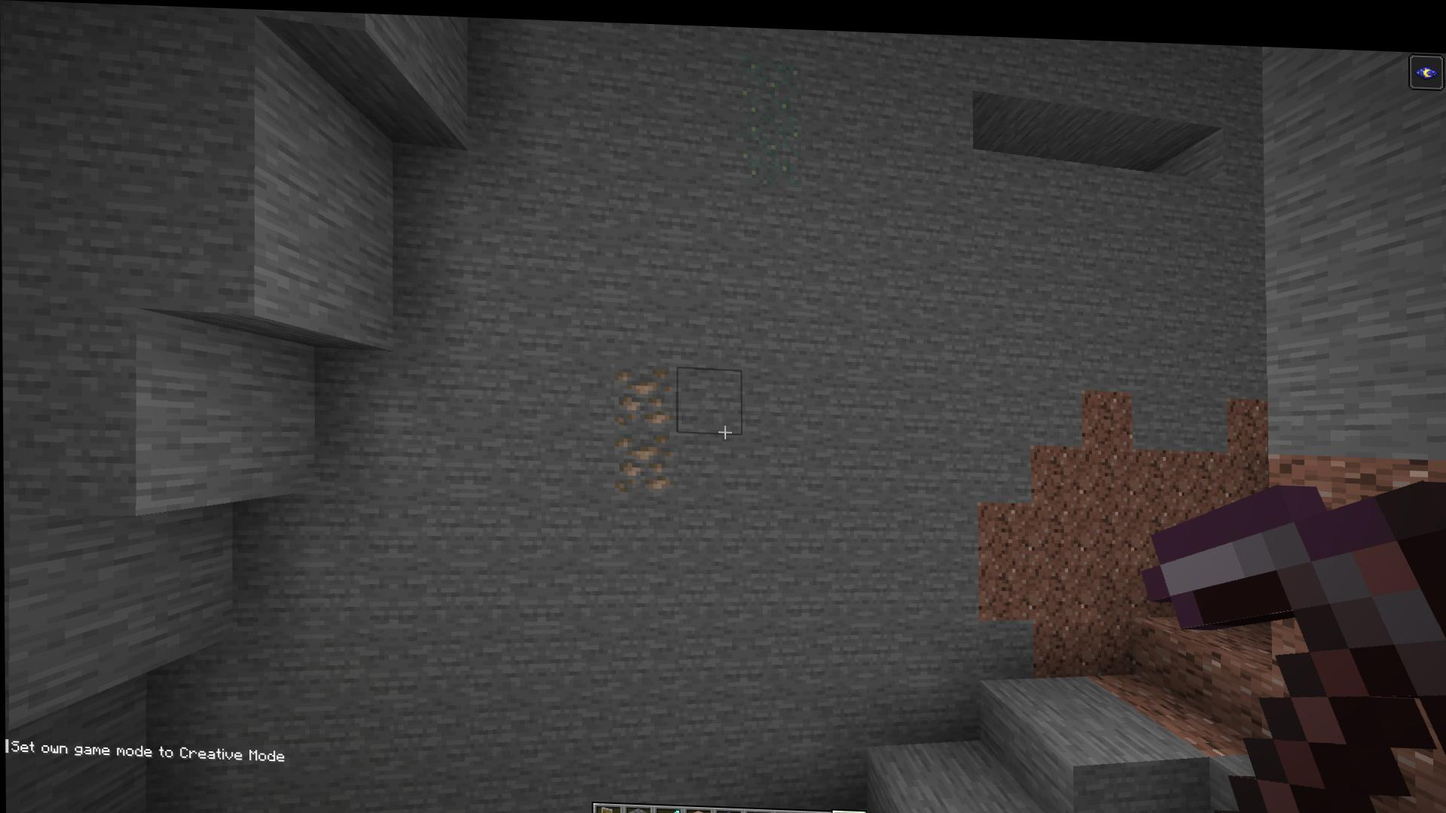iron ore: (614, 361, 676, 422), (617, 429, 676, 488)
